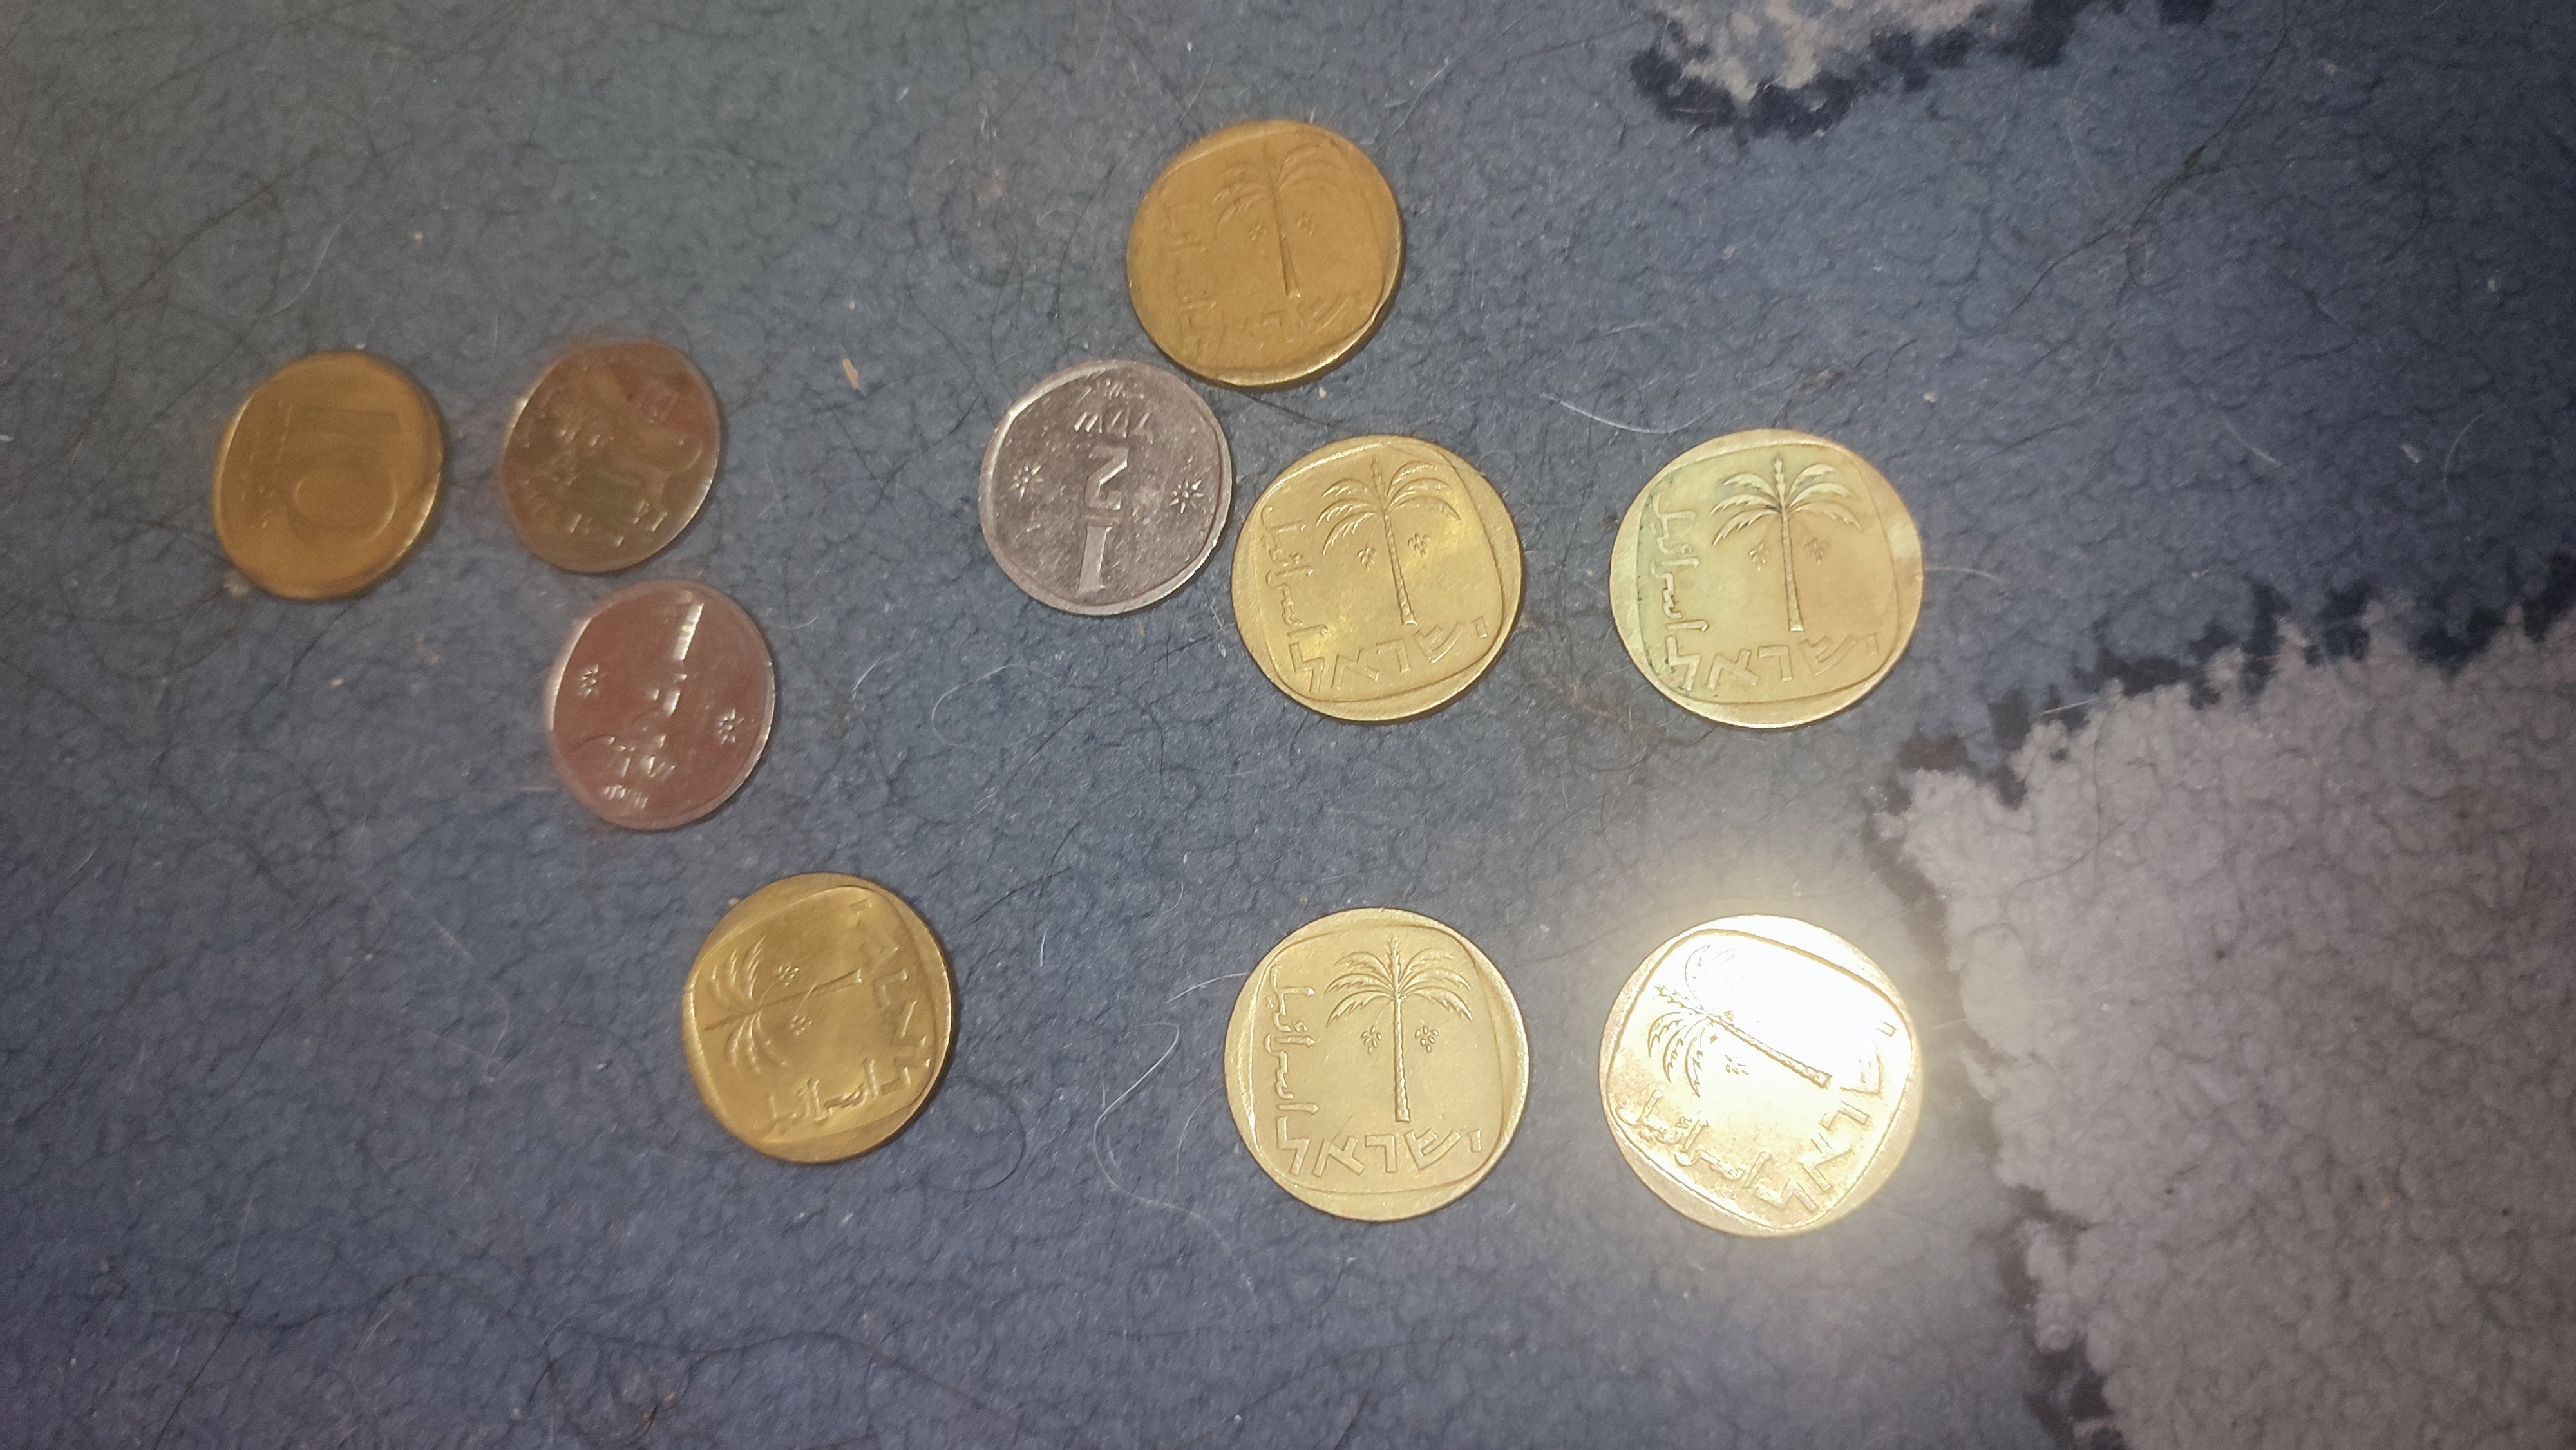1/2 old sheqel: (971, 355, 1242, 624), (540, 578, 784, 836), (490, 334, 732, 580)
10 old agora brown: (1591, 907, 1930, 1248), (1599, 419, 1937, 748), (1212, 898, 1537, 1225), (1226, 428, 1530, 732), (671, 866, 966, 1174), (1118, 110, 1414, 398), (203, 343, 456, 614)
